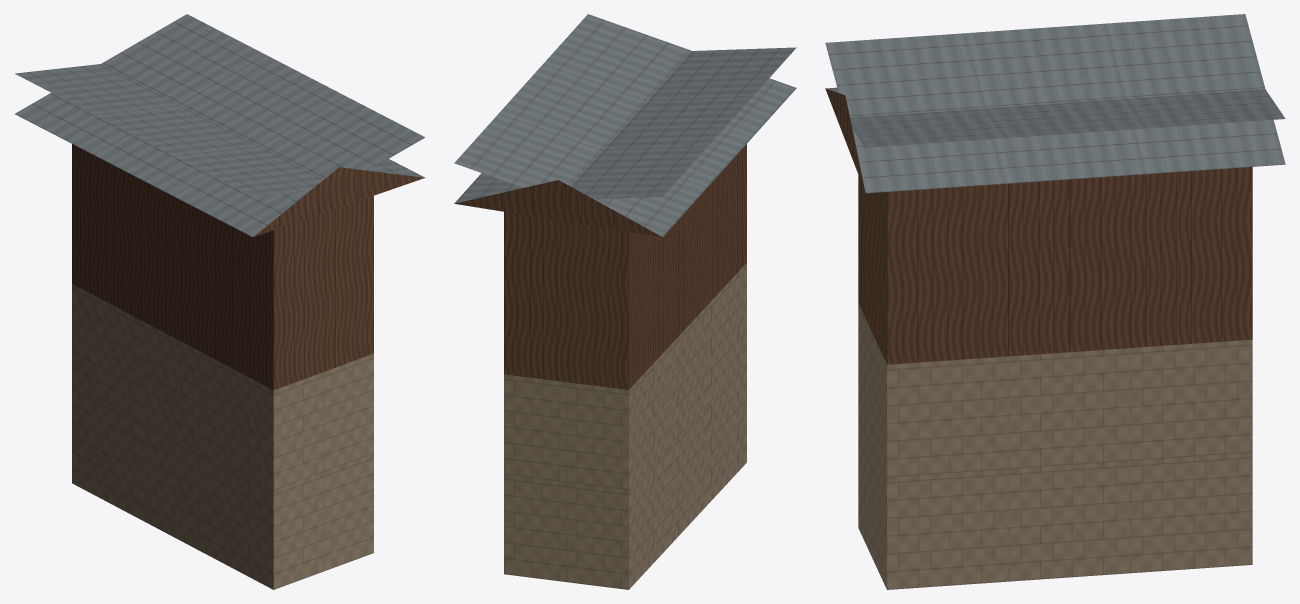
File: bld_c34_46_239.gltf
3 views of the same model, side by side, from view 1: azimuth 30°, elevation 25°; view 2: azimuth 150°, elevation 25°; view 3: azimuth 270°, elevation 25° (orthographic). The views are drawn at different scales.
Parts seen in each view (by area): view 1: bld_c34_46_239; view 2: bld_c34_46_239; view 3: bld_c34_46_239.
Boxes of the visible parts, x1=… form: bld_c34_46_239: x1=15, y1=14, x2=425, y2=589; bld_c34_46_239: x1=454, y1=14, x2=796, y2=589; bld_c34_46_239: x1=825, y1=14, x2=1285, y2=589.
Size of the model in its own units: 6.29 by 10.2 by 9.15.
Materials: 4 (4 with a texture image).
